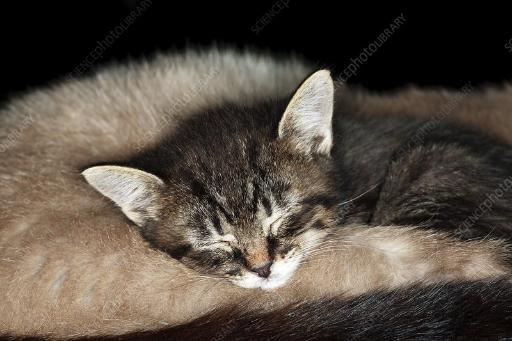cat_sleeping: (82, 69, 511, 289)
